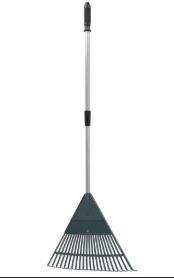RATEAU: (0, 0, 140, 278)
